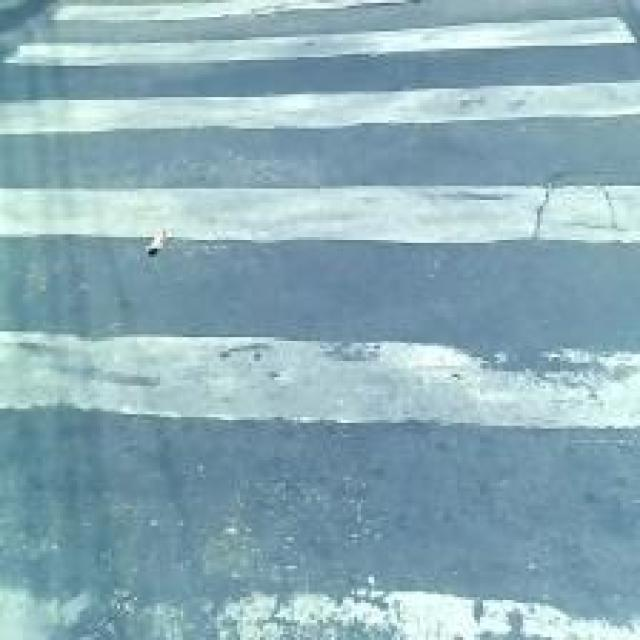crosswalk: (3, 1, 640, 640)
